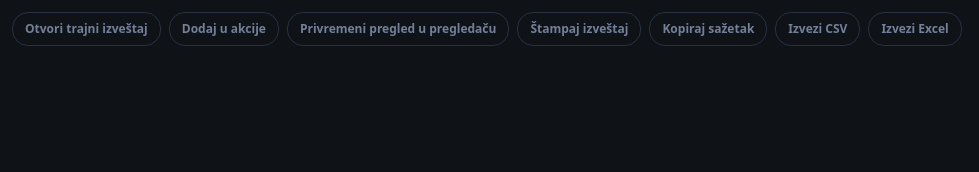
Test: SupplierDecisionReportActions › shows a permission warning and keeps the queue button available when queue write is forbidden
This screenshot has width=979, height=172.
Click the button "Dodaj u akcije": point(224, 29) [169, 12, 279, 46]
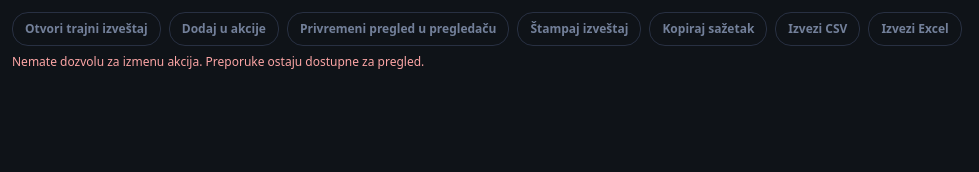
Expected: the text "Nemate dozvolu za izmenu akcija. Preporuke ostaju dostupne za pregled." is shown, [12, 54, 424, 70]
